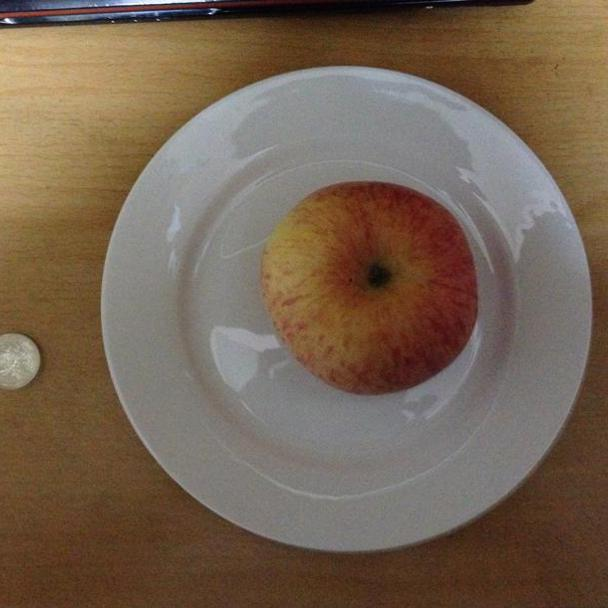apple: (257, 179, 479, 398)
